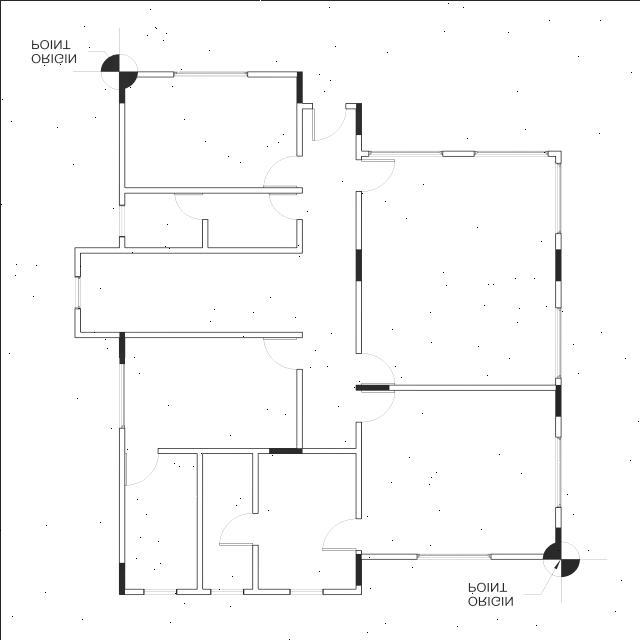Column: (268, 447, 302, 453), (354, 384, 388, 390), (554, 526, 560, 558), (554, 384, 560, 416), (554, 248, 560, 280), (355, 102, 361, 134), (296, 70, 302, 102), (118, 70, 124, 102), (118, 331, 124, 363), (118, 562, 124, 594), (354, 553, 360, 585), (355, 248, 361, 280)
Door: (354, 389, 394, 422), (124, 446, 158, 484), (311, 102, 345, 140), (218, 512, 258, 544), (321, 518, 361, 550), (262, 337, 302, 369), (354, 352, 394, 384), (262, 155, 302, 187), (355, 158, 394, 190), (173, 192, 207, 219), (268, 192, 302, 218)
Window: (118, 363, 125, 430), (172, 70, 246, 76), (368, 150, 442, 156), (473, 150, 547, 156), (416, 553, 490, 559), (554, 162, 560, 233), (554, 436, 560, 507), (554, 307, 560, 377), (72, 275, 80, 309), (118, 203, 124, 237), (288, 588, 322, 594), (142, 588, 176, 594), (210, 588, 243, 594)
